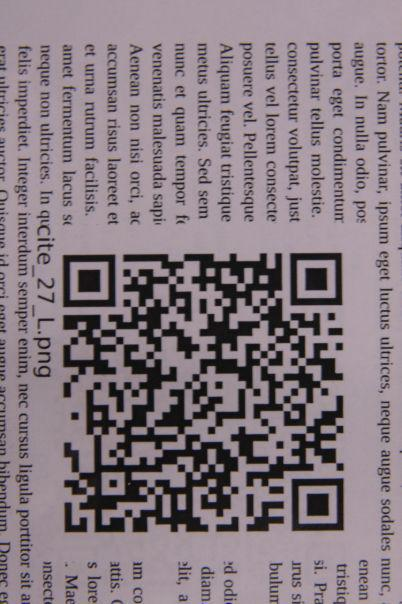Finder pattern: (58, 247, 124, 315), (285, 247, 349, 311), (284, 474, 349, 535)
